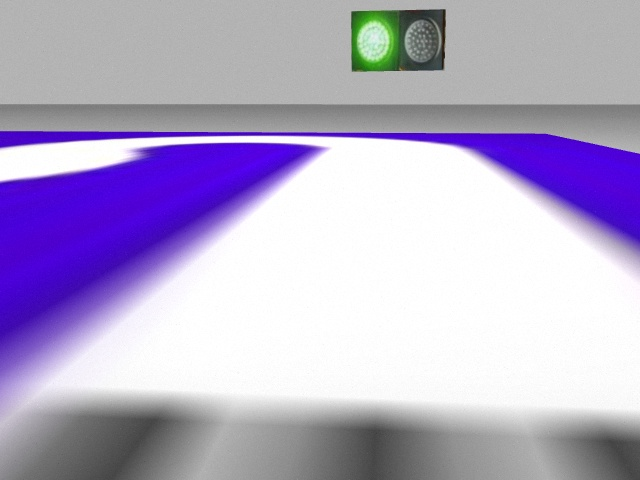green: (352, 11, 401, 71)
